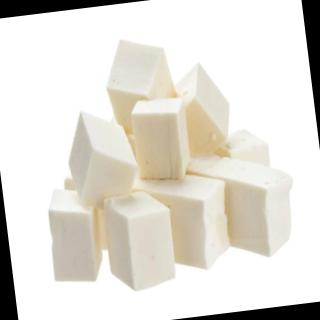Tahu: (21, 19, 306, 305)
